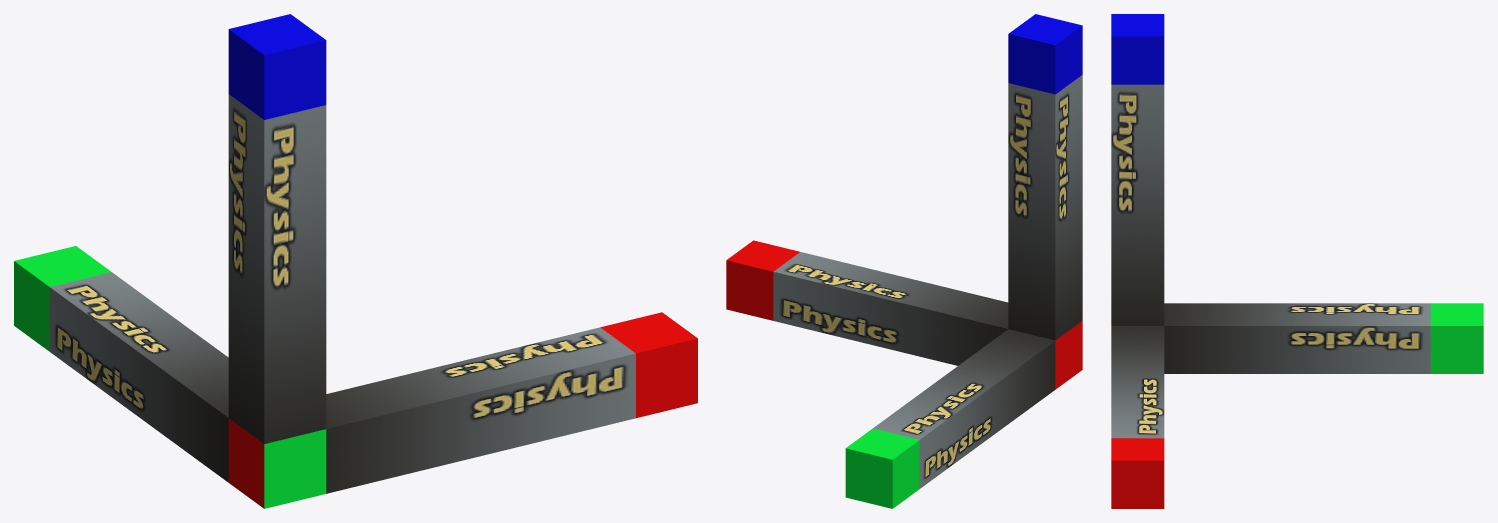
File: coordinate_physics.DAE
The picture shows the model from 3 angles, left to right: view 1: azimuth 30°, elevation 25°; view 2: azimuth 150°, elevation 25°; view 3: azimuth 270°, elevation 25°; orthographic projection. The views are drawn at different scales.
Visible parts, largest first — view 1: Box01; view 2: Box01; view 3: Box01.
Part boxes in pixels (<box>): Box01: <box>14,14,697,508</box>; Box01: <box>726,14,1082,508</box>; Box01: <box>1111,14,1483,508</box>.
Bounding box in the file's own units: 7 × 7 × 7.
